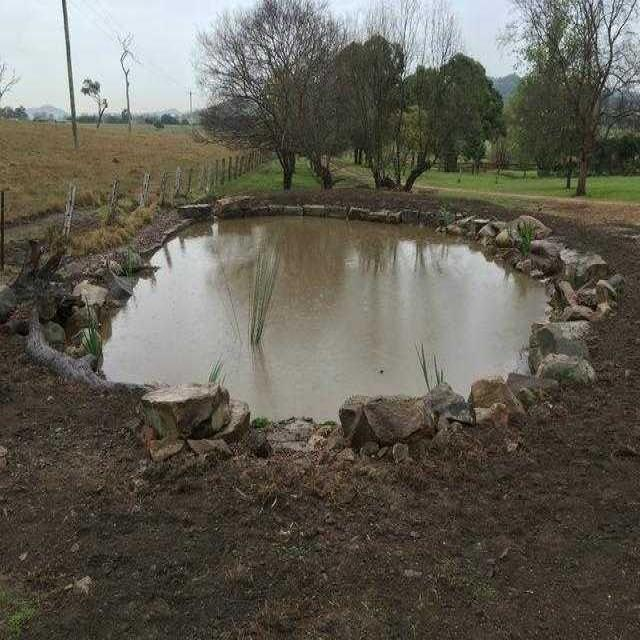Ponds: (22, 192, 627, 463)
